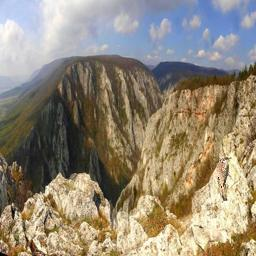Cuckoo: (216, 157, 232, 201)
